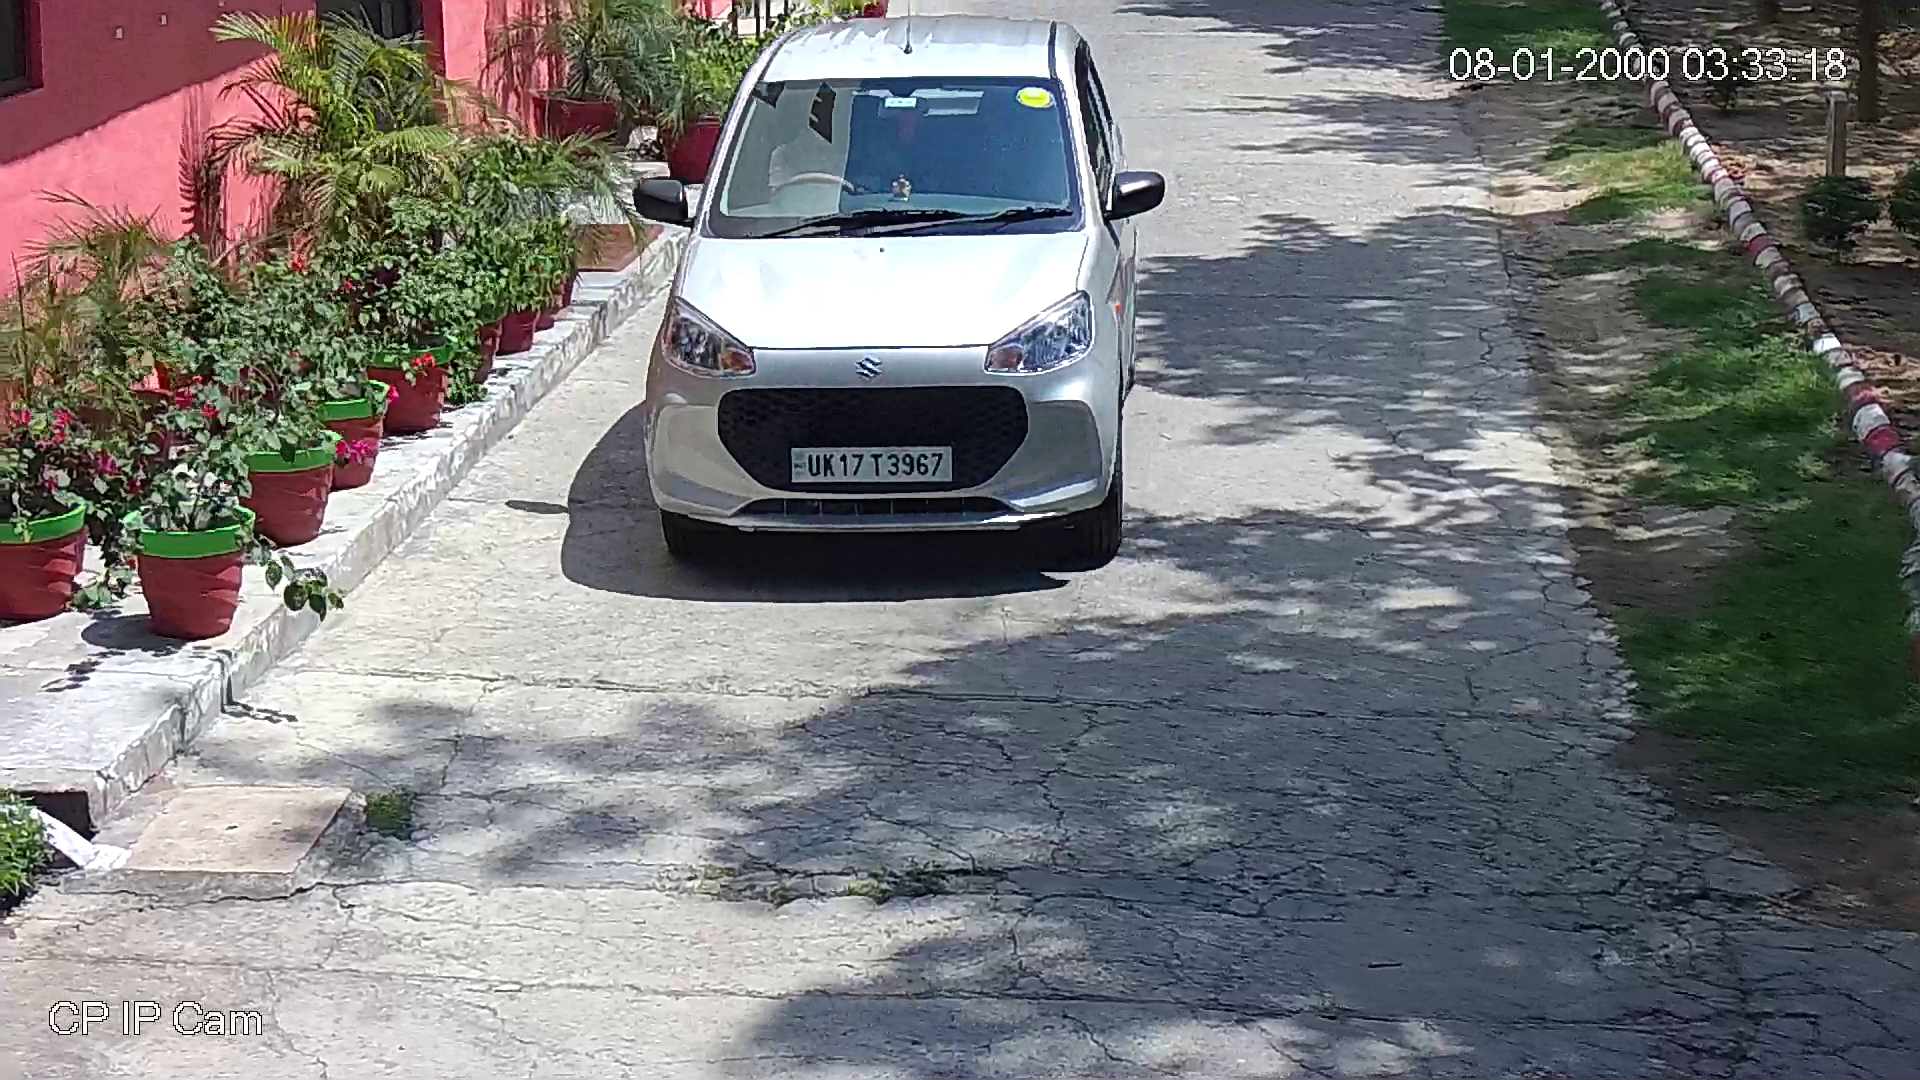plate: (785, 442, 954, 487)
